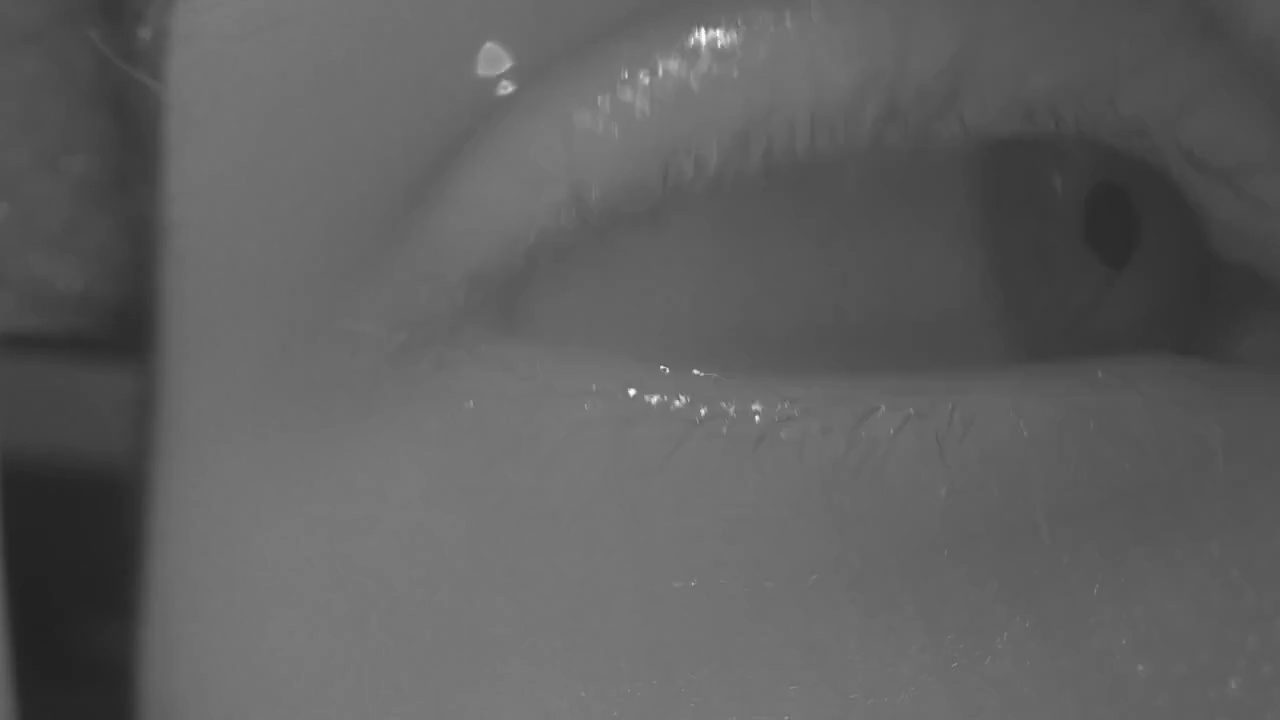pupil: (1085, 183, 1142, 270)
